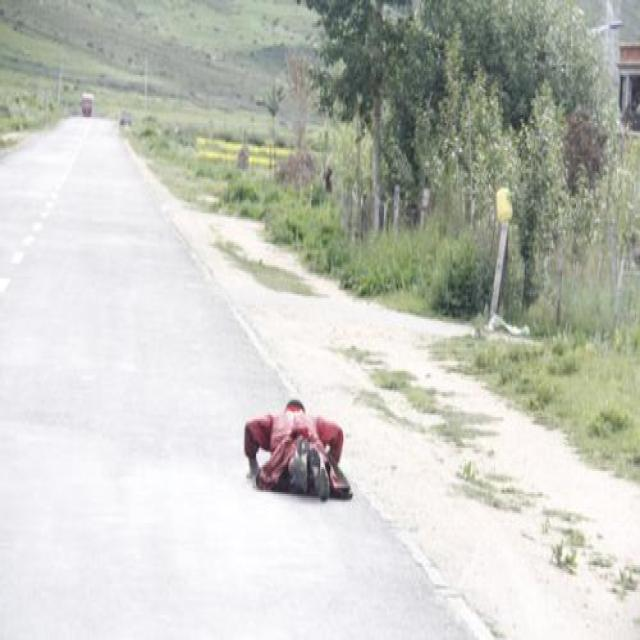down: (237, 392, 357, 504)
